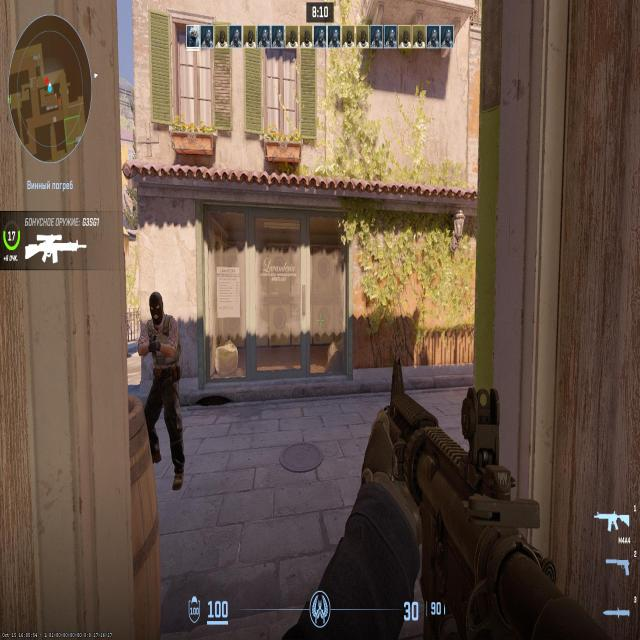T: (145, 300, 183, 473)
T_heat: (147, 299, 163, 324)
